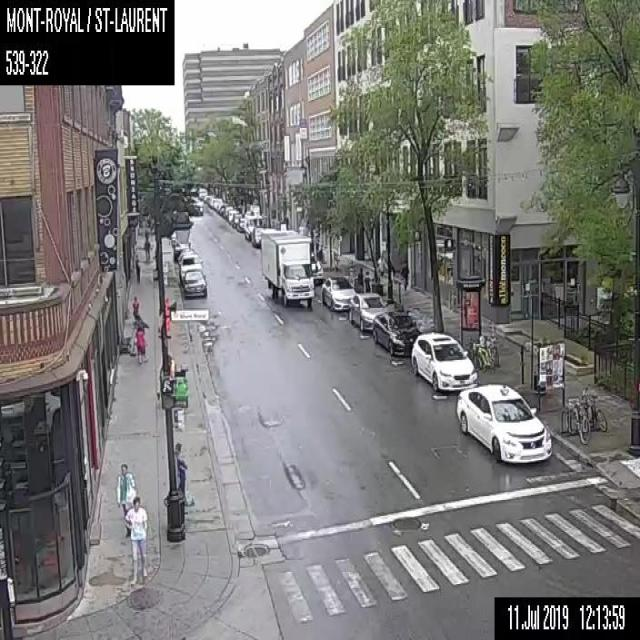pedestrian: (124, 496, 147, 584), (115, 463, 136, 534), (175, 441, 188, 504), (132, 318, 149, 364), (400, 262, 408, 290), (132, 293, 138, 326), (357, 267, 364, 292), (134, 256, 140, 282), (364, 270, 370, 292), (143, 235, 149, 257)
vehicle: (456, 383, 551, 461), (260, 228, 314, 307), (410, 331, 478, 392), (372, 310, 421, 355), (348, 292, 387, 332), (321, 275, 356, 311), (182, 268, 207, 296), (179, 253, 203, 282), (244, 203, 262, 239), (310, 250, 322, 284), (173, 237, 190, 258), (177, 248, 195, 264), (251, 225, 264, 246), (188, 199, 203, 214), (207, 196, 221, 209), (226, 208, 238, 220), (231, 212, 241, 226), (236, 217, 246, 231), (217, 201, 228, 213), (198, 187, 207, 198), (223, 205, 232, 216), (203, 194, 210, 202)
